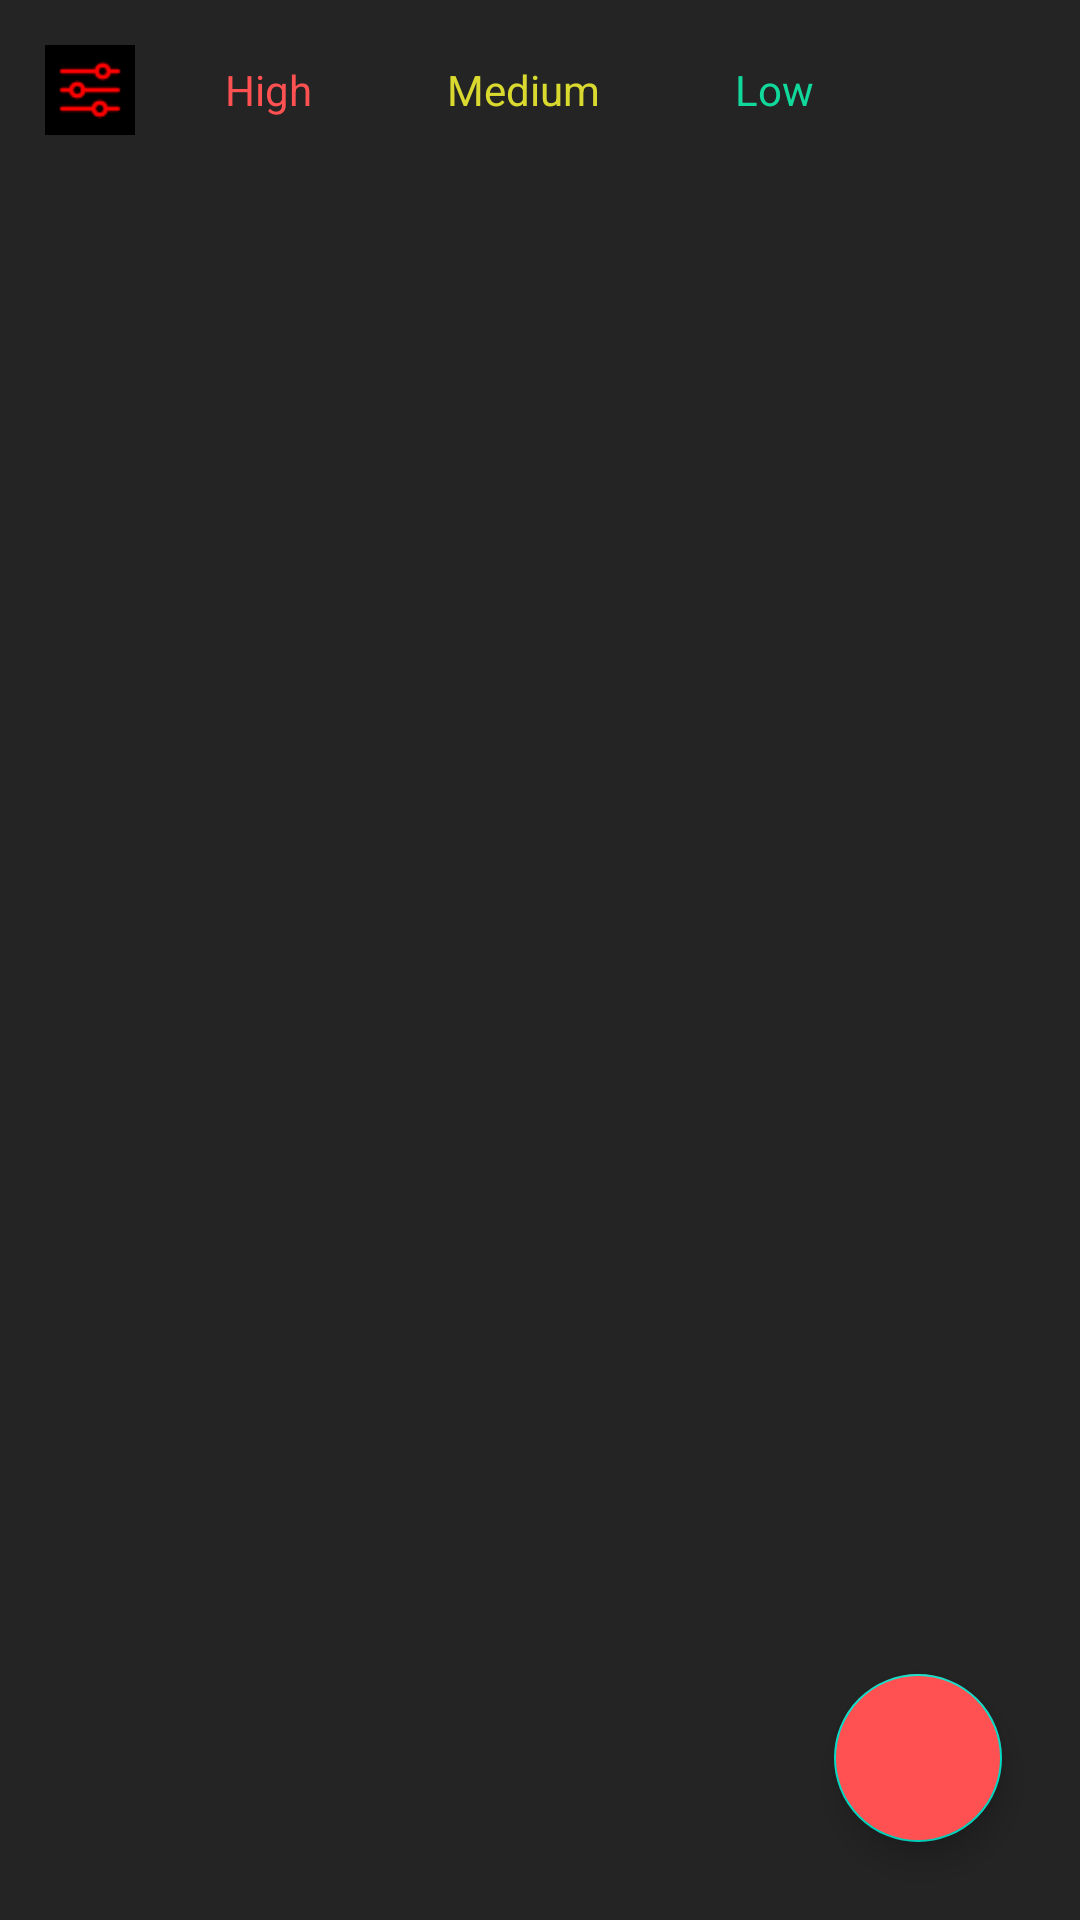

Where icons sit on this 1080px x 1920px app screen, as (x1, y1, x2, y2):
iconfilter: (45, 45, 135, 135)
